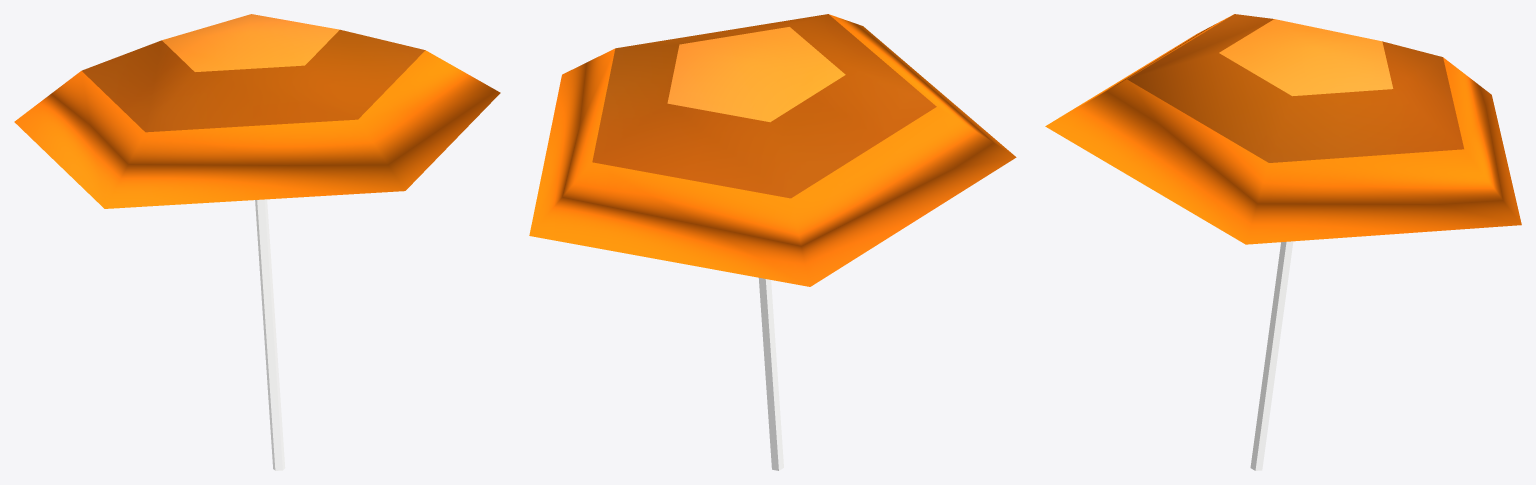
Rendered from BeachUmbrellaOrange.glb.
3 views of the same model, side by side, from view 1: azimuth 30°, elevation 25°; view 2: azimuth 150°, elevation 25°; view 3: azimuth 270°, elevation 25° (orthographic). The views are drawn at different scales.
Visible parts, largest first — view 1: BeachUmbrellaOrange; view 2: BeachUmbrellaOrange; view 3: BeachUmbrellaOrange.
Part boxes in pixels (<box>): BeachUmbrellaOrange: <box>14,14,500,470</box>; BeachUmbrellaOrange: <box>529,14,1016,470</box>; BeachUmbrellaOrange: <box>1045,14,1521,470</box>.
Bounding box in the file's own units: 2.41 × 2.28 × 2.35.
Materials: 1 (1 with a texture image).
